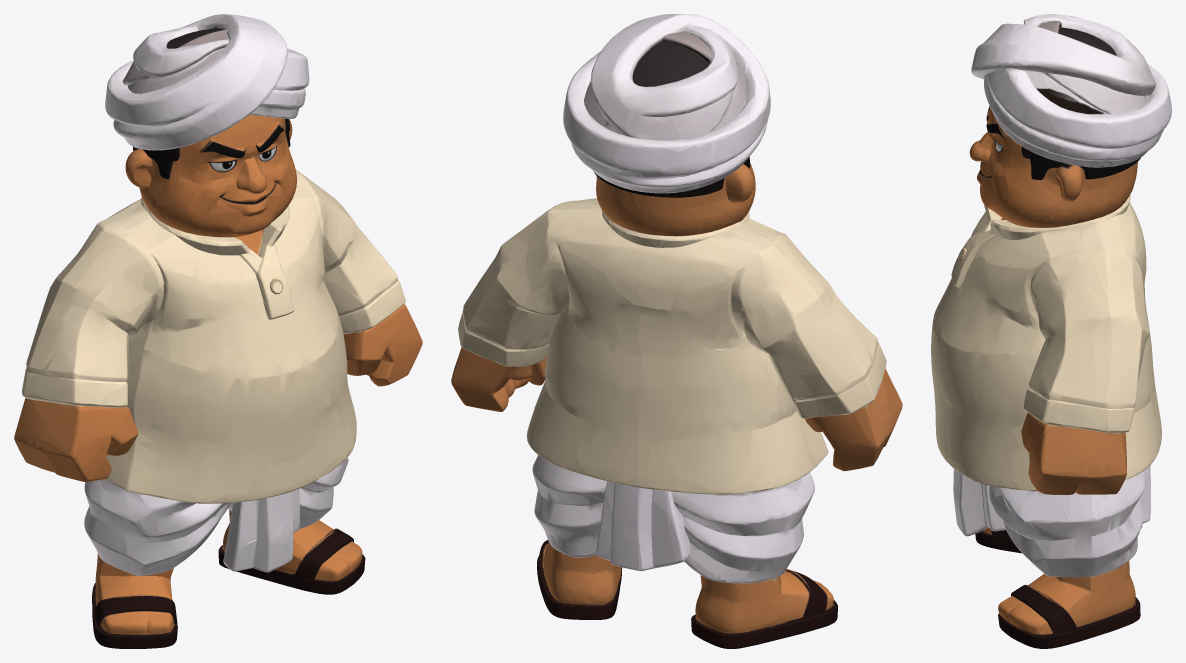
Rendered from arbang.glb.
3 renders of one model, left to right at view 1: azimuth 30°, elevation 25°; view 2: azimuth 150°, elevation 25°; view 3: azimuth 270°, elevation 25°, orthographic. The views are drawn at different scales.
Parts seen in each view (by area): view 1: output_unwrapped; view 2: output_unwrapped; view 3: output_unwrapped.
Part boxes in pixels (box(x1,y1,x2,y2)): output_unwrapped: box(14, 14, 422, 648); output_unwrapped: box(451, 14, 902, 648); output_unwrapped: box(931, 14, 1171, 648).
Bounding box in the file's own units: 1.39 × 1.9 × 0.7378.
1 material, 1 textured.
